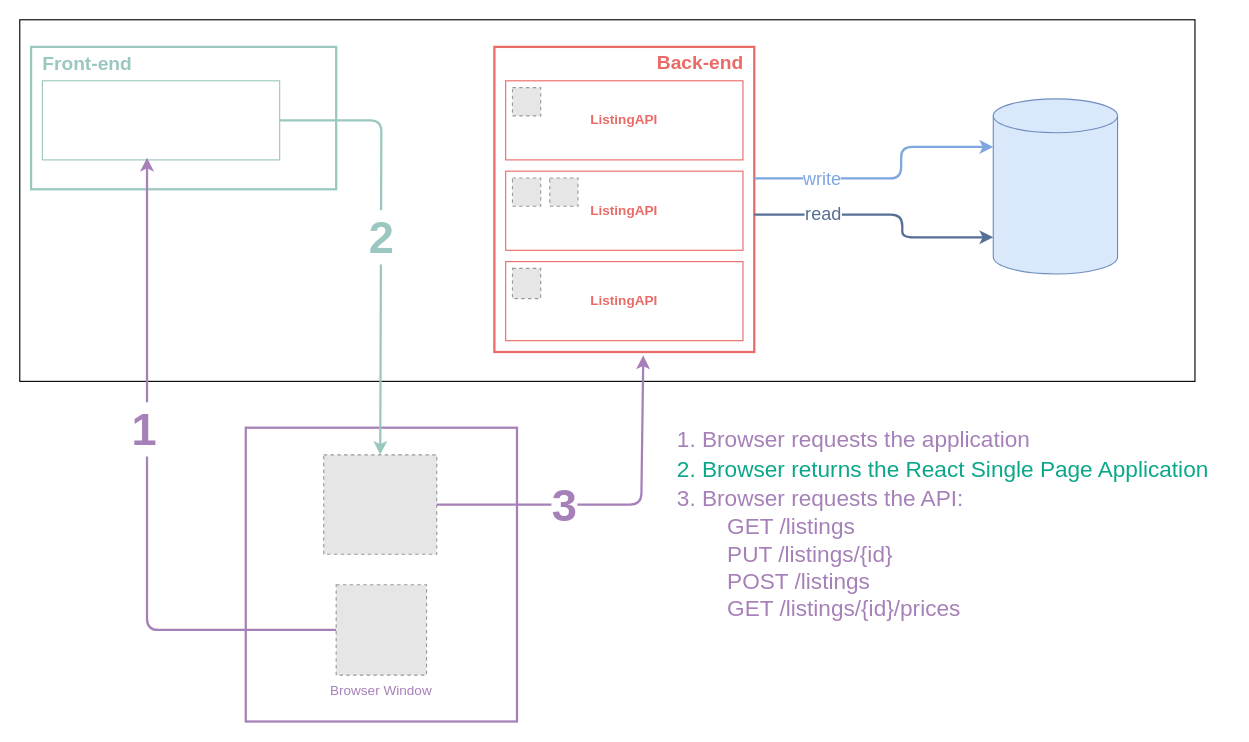
Some shapes in this 1249 by 742 pixel diagram are drawn without their labels. Grey dashed boxes stand in for pictures. Here are the shapes that lost their labels. From the top down, the centre of each, then its label:
[160,120]: HTTP Server
[1055,186]: listing and prices postgres Database
